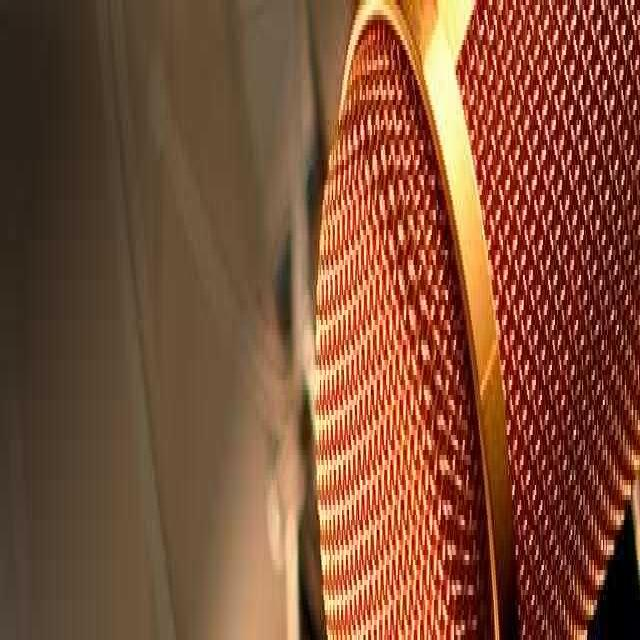microphone: (314, 0, 640, 640)
